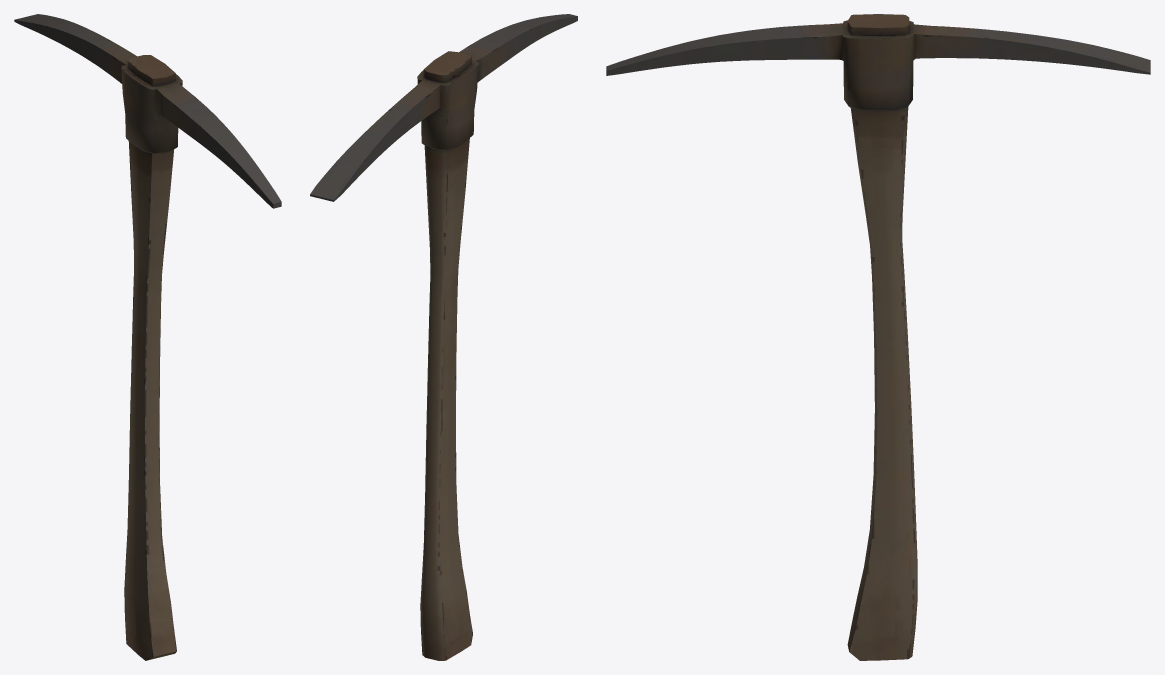
3 renders of one model, left to right at view 1: azimuth 30°, elevation 25°; view 2: azimuth 150°, elevation 25°; view 3: azimuth 270°, elevation 25°, orthographic. The views are drawn at different scales.
Parts seen in each view (by area): view 1: body0_model0_lod0_mesh0; view 2: body0_model0_lod0_mesh0; view 3: body0_model0_lod0_mesh0.
Part boxes in pixels (x1,y1,x2,y2): body0_model0_lod0_mesh0: (14, 14, 281, 660); body0_model0_lod0_mesh0: (310, 14, 577, 660); body0_model0_lod0_mesh0: (606, 14, 1150, 660).
Bounding box in the file's own units: 3.84 × 56.5 × 44.08.
1 material, 1 textured.
